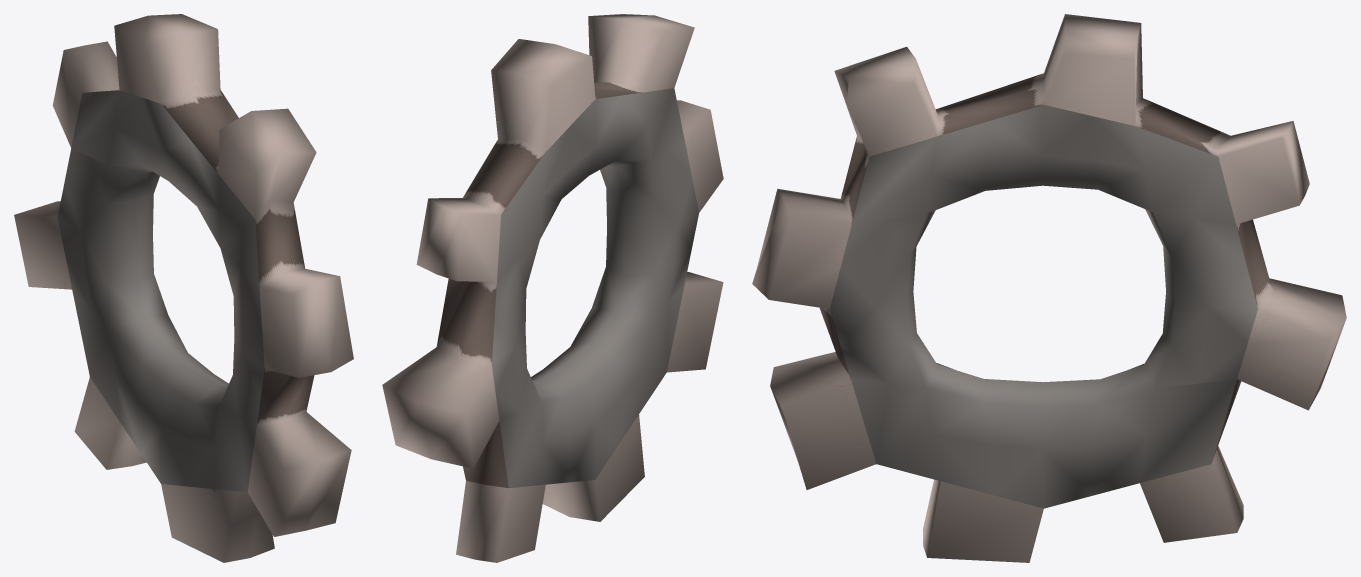
The model's file is Gear1.fbx.
The picture shows the model from 3 angles, left to right: view 1: azimuth 30°, elevation 25°; view 2: azimuth 150°, elevation 25°; view 3: azimuth 270°, elevation 25°; orthographic projection. The views are drawn at different scales.
Visible parts, largest first — view 1: Gear1; view 2: Gear1; view 3: Gear1.
Boxes of the visible parts, box(x1,y1,x2,y2) form: Gear1: box(14, 14, 353, 562); Gear1: box(382, 14, 723, 562); Gear1: box(752, 14, 1346, 562).
Bounding box in the file's own units: 29.4 × 152 × 157.
Materials: 1 (1 with a texture image).
